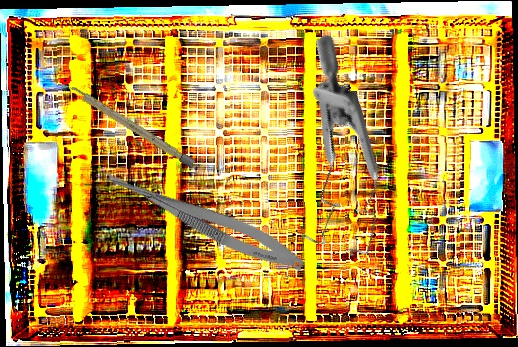Micro Scissor: (88, 161, 310, 278)
Scalpel Handle: (66, 82, 196, 169)
Speculum: (213, 31, 450, 280)
